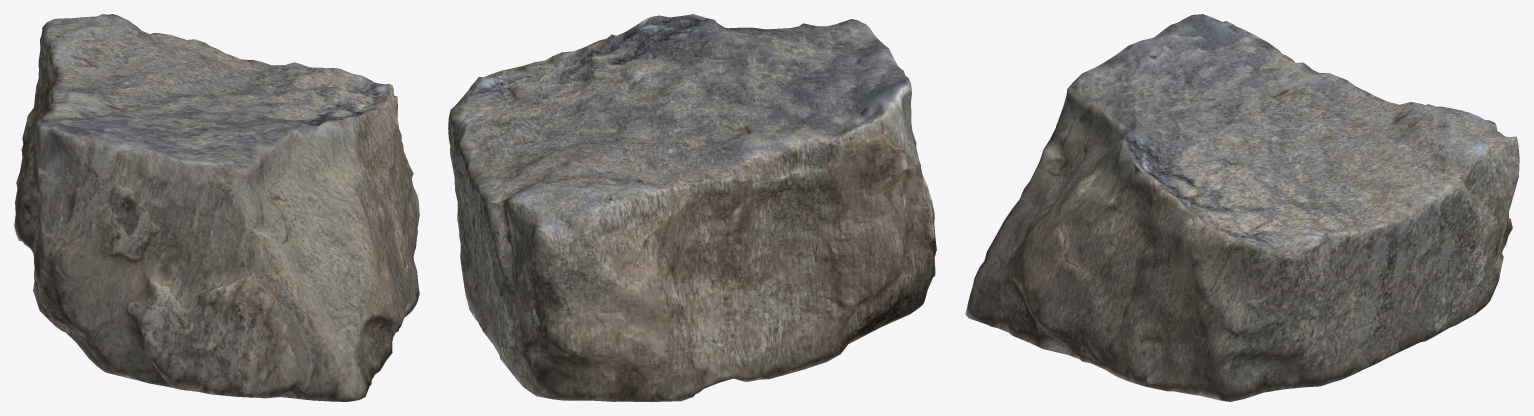
Rendered from boulder_b.glb.
3 renders of one model, left to right at view 1: azimuth 30°, elevation 25°; view 2: azimuth 150°, elevation 25°; view 3: azimuth 270°, elevation 25°, orthographic. The views are drawn at different scales.
Parts seen in each view (by area): view 1: boulder_b; view 2: boulder_b; view 3: boulder_b.
Part boxes in pixels (x1,y1,x2,y2): boulder_b: (14,14,419,401); boulder_b: (448,14,936,401); boulder_b: (965,14,1519,401).
Bounding box in the file's own units: 3.45 × 1.91 × 4.4.
Materials: 1 (1 with a texture image).
